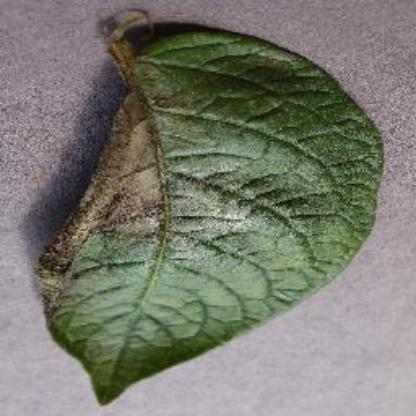Late-Blight: (34, 17, 384, 404)
